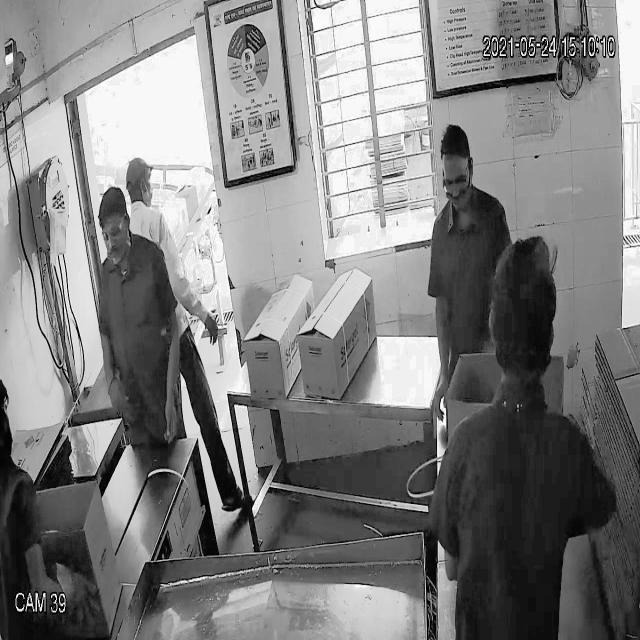glasses: (438, 166, 477, 196), (97, 217, 132, 243)
